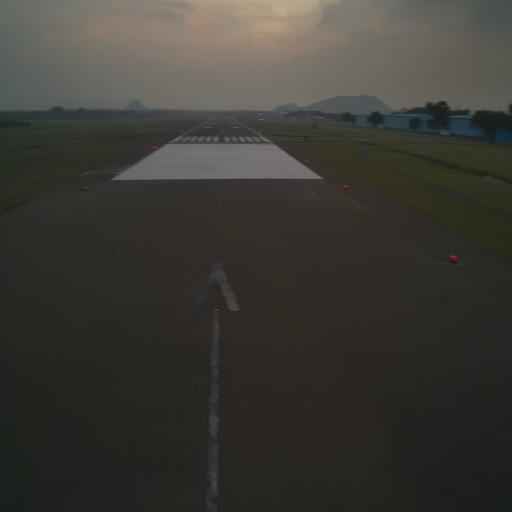on: (450, 251, 458, 267), (342, 182, 350, 194), (83, 184, 89, 191)
